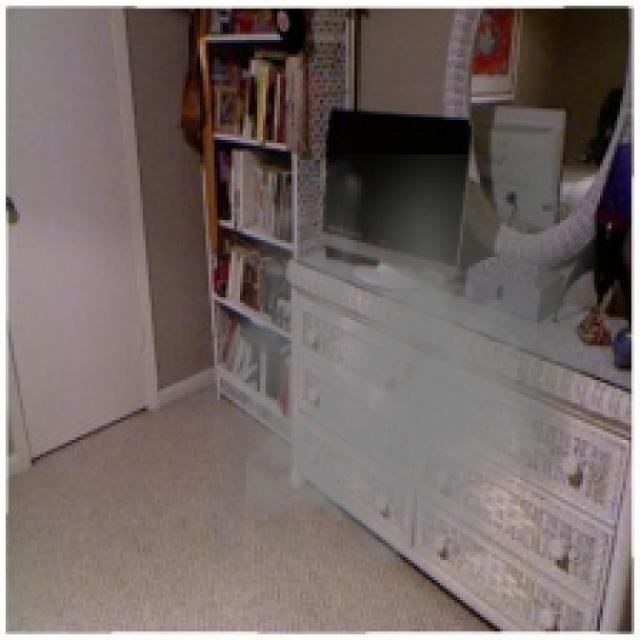Smoke: (202, 154, 598, 577)
